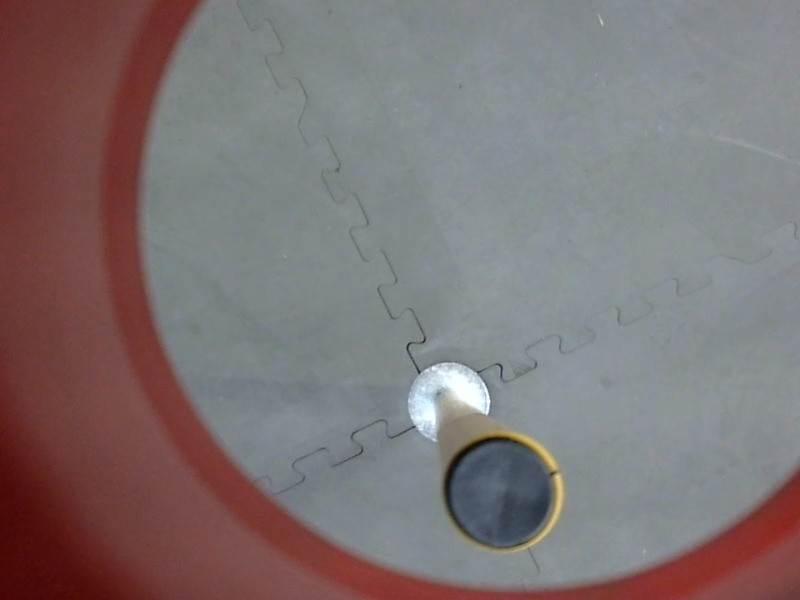tip: (437, 425, 569, 562)
